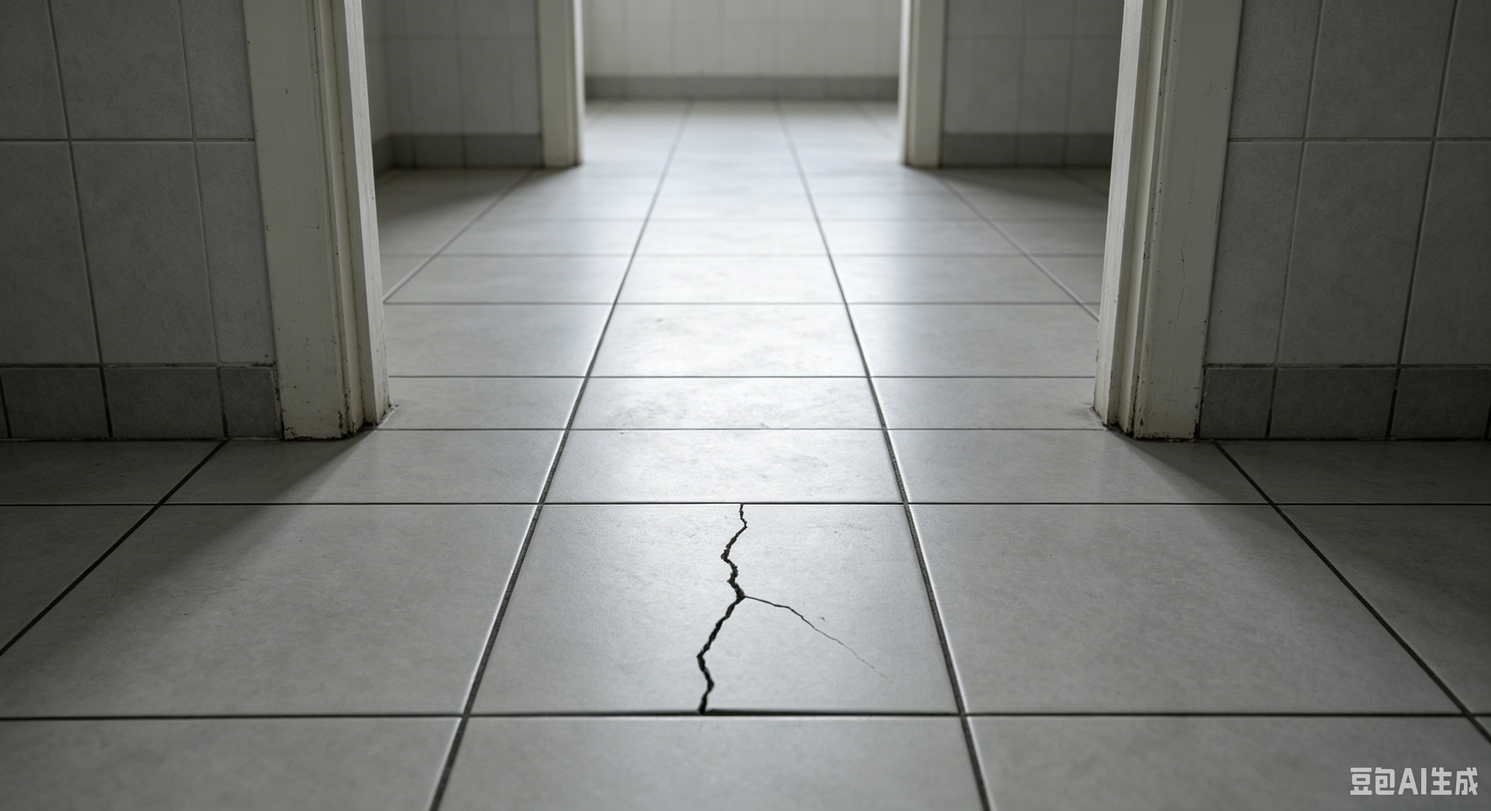floor_defect: (681, 498, 757, 723), (758, 583, 894, 682)
